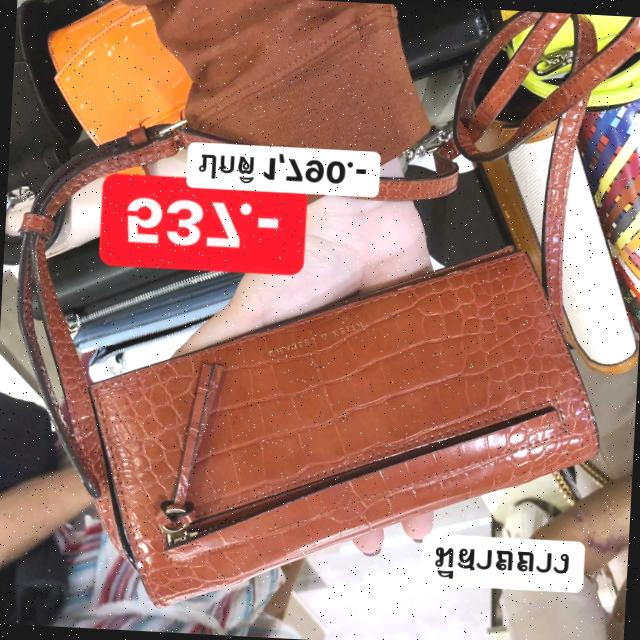handbag: (74, 228, 610, 629)
